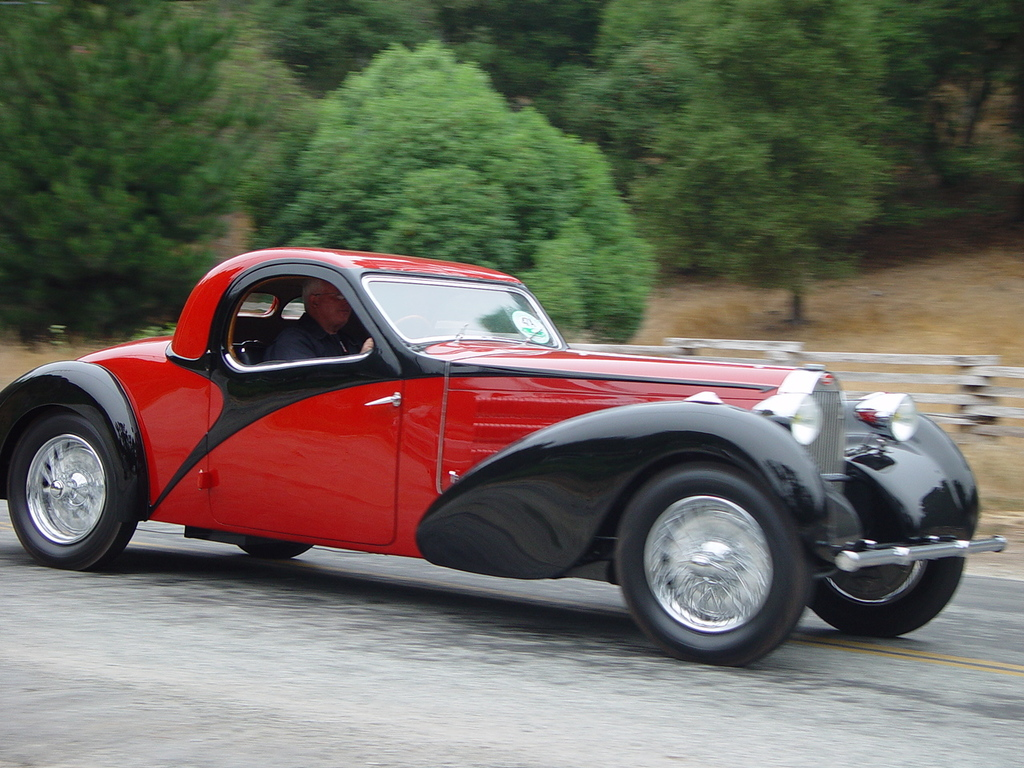Car: (19, 251, 963, 656)
